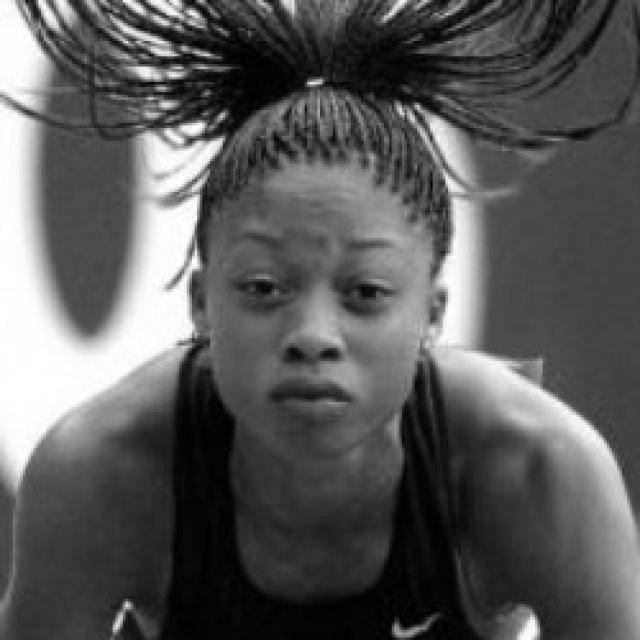real: (204, 171, 426, 461), (224, 248, 404, 324)
